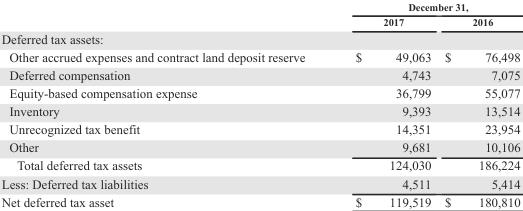table: (0, 0, 519, 208)
table column: (0, 0, 329, 208), (329, 0, 437, 208), (437, 0, 519, 208)
table column header: (0, 0, 519, 29)
table projected row header: (0, 29, 519, 47)
table row: (0, 137, 519, 156), (0, 29, 519, 47), (0, 47, 519, 65), (0, 65, 519, 83), (0, 83, 519, 101), (0, 101, 519, 119), (0, 119, 519, 137), (0, 156, 519, 174), (0, 174, 519, 192), (0, 192, 519, 208), (0, 14, 519, 29), (0, 0, 519, 14)
table spanning cell: (329, 0, 519, 14)
